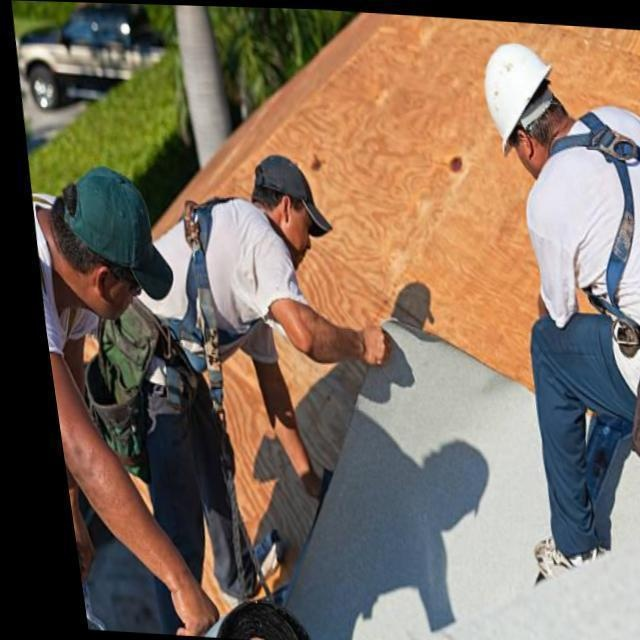Arnes_seguridad: (537, 90, 640, 354)
